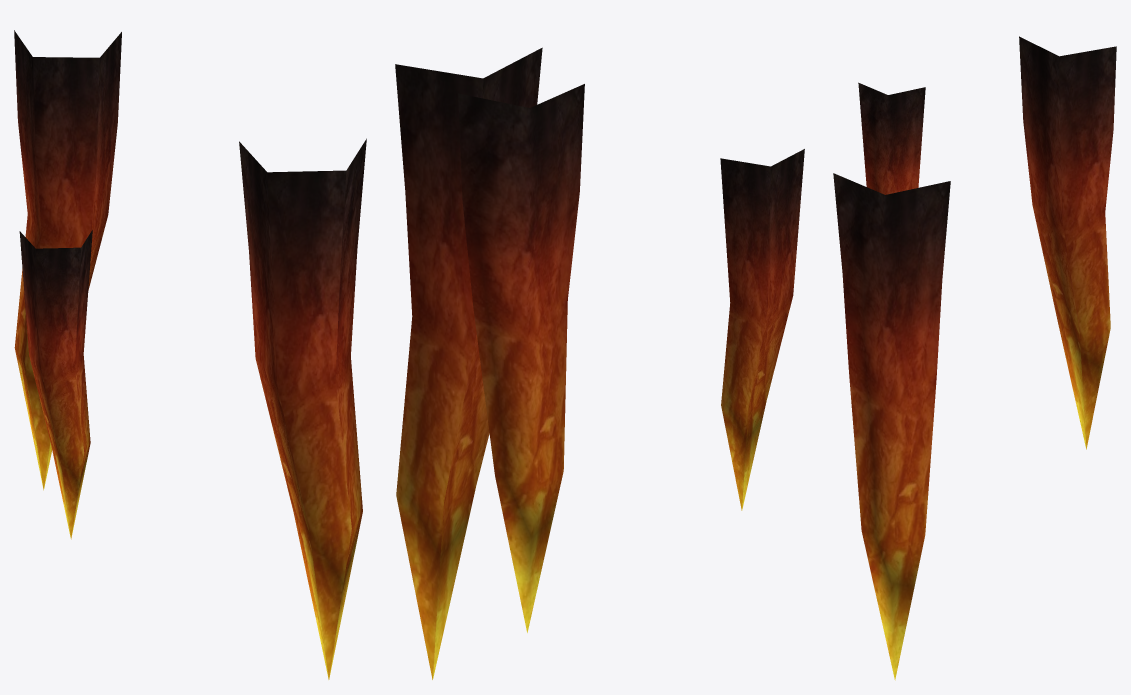
Rendered from lavaspike.002.glb.
The picture shows the model from 3 angles, left to right: view 1: azimuth 30°, elevation 25°; view 2: azimuth 150°, elevation 25°; view 3: azimuth 270°, elevation 25°; orthographic projection. The views are drawn at different scales.
Parts seen in each view (by area): view 1: blackrock_lava.jpg__; view 2: blackrock_lava.jpg__; view 3: blackrock_lava.jpg__.
Boxes of the visible parts, <box> form: blackrock_lava.jpg__: <box>14,30,366,679</box>; blackrock_lava.jpg__: <box>395,47,804,679</box>; blackrock_lava.jpg__: <box>833,36,1116,680</box>.
Bounding box in the file's own units: 3 × 5.25 × 2.36.
1 material, 1 textured.
